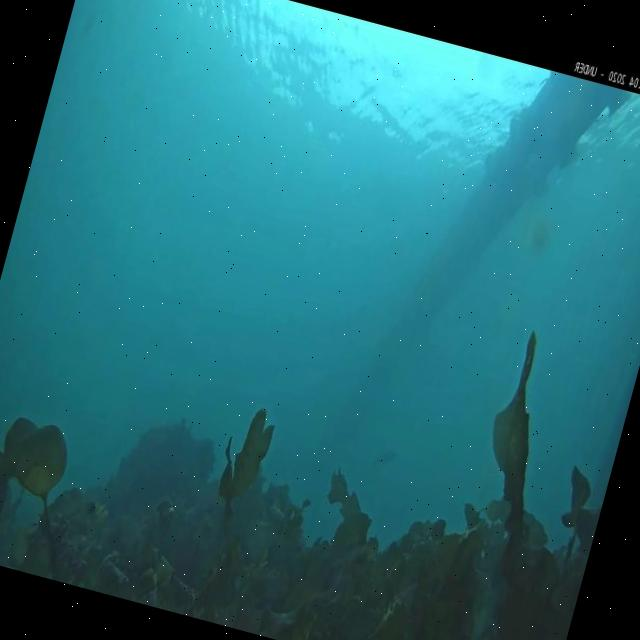fish: (369, 440, 400, 477)
